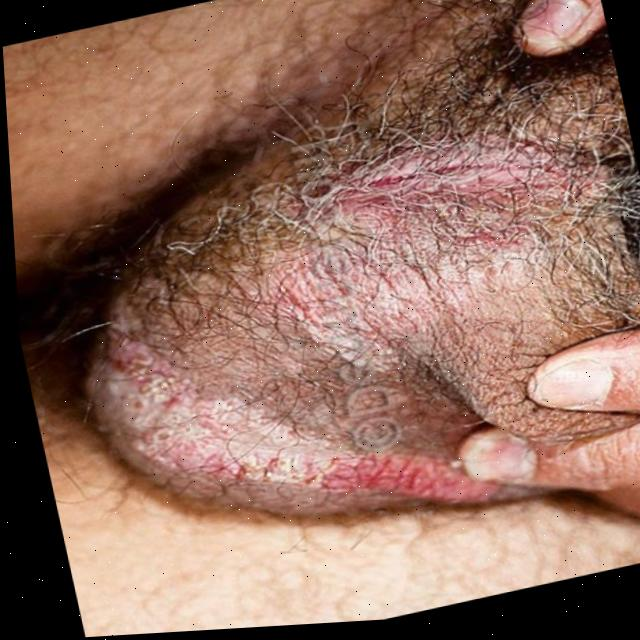Eczema: (68, 79, 640, 596)
